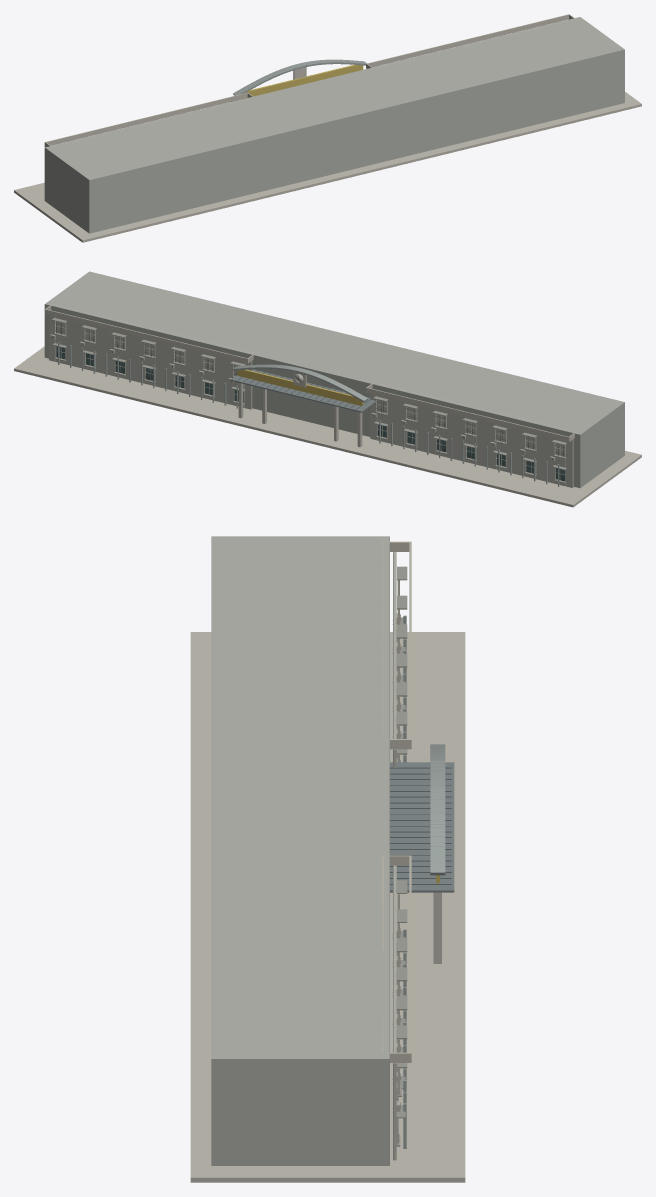
The model's file is kerala_ers_entry.glb.
The picture shows the model from 3 angles, top to bottom: view 1: azimuth 30°, elevation 25°; view 2: azimuth 150°, elevation 25°; view 3: azimuth 270°, elevation 25°; orthographic projection. The views are drawn at different scales.
Visible parts, largest first — view 1: kerala_ers_entry; view 2: kerala_ers_entry; view 3: kerala_ers_entry.
Boxes of the visible parts, x1,y1,x2,y2 form: kerala_ers_entry: (14, 14, 641, 242); kerala_ers_entry: (14, 271, 641, 507); kerala_ers_entry: (190, 536, 465, 1182).
Bounding box in the file's own units: 94 × 10.34 × 20.
